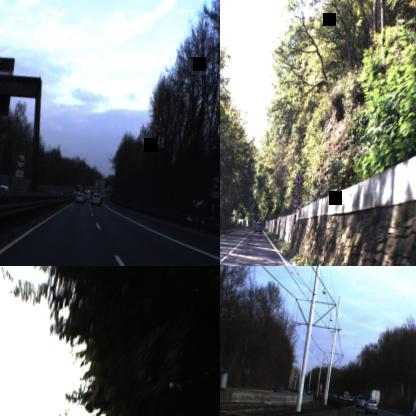bend left: (292, 167, 304, 185)
no overtaking: (13, 150, 28, 171), (209, 171, 220, 191)
no overtaking (trucks): (290, 196, 298, 209)
speed limit 70: (292, 184, 300, 196)
